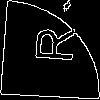R: (25, 24, 75, 64)
